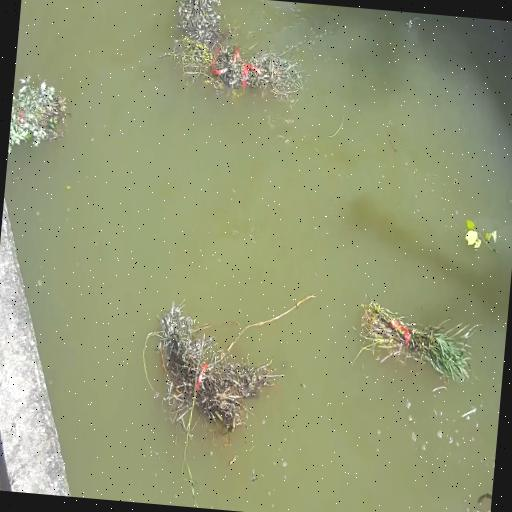twig: (144, 308, 298, 446), (160, 0, 316, 112), (350, 282, 492, 388), (8, 54, 77, 164), (466, 208, 512, 262)
